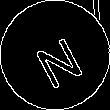N_NW: (25, 23, 85, 87)
